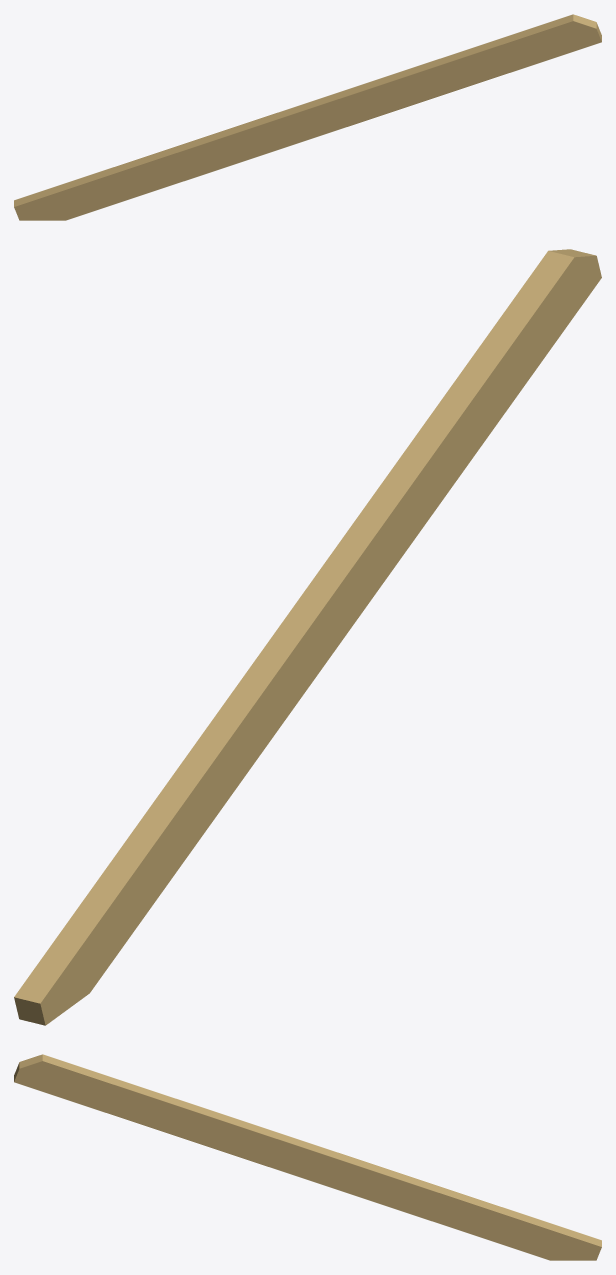
3 views of the same model, one above another, from view 1: azimuth 90°, elevation 25°; view 2: azimuth 150°, elevation 25°; view 3: azimuth 270°, elevation 25° (orthographic). The views are drawn at different scales.
Visible parts, largest first — view 1: L1-3-S12-328-WEB02; view 2: L1-3-S12-328-WEB02; view 3: L1-3-S12-328-WEB02.
Part boxes in pixels (bbox=[...]): L1-3-S12-328-WEB02: bbox=[14, 14, 601, 220]; L1-3-S12-328-WEB02: bbox=[14, 249, 601, 1025]; L1-3-S12-328-WEB02: bbox=[14, 1054, 601, 1260].
Bounding box in the file's own units: 0.045 × 0.6219 × 1.66.
